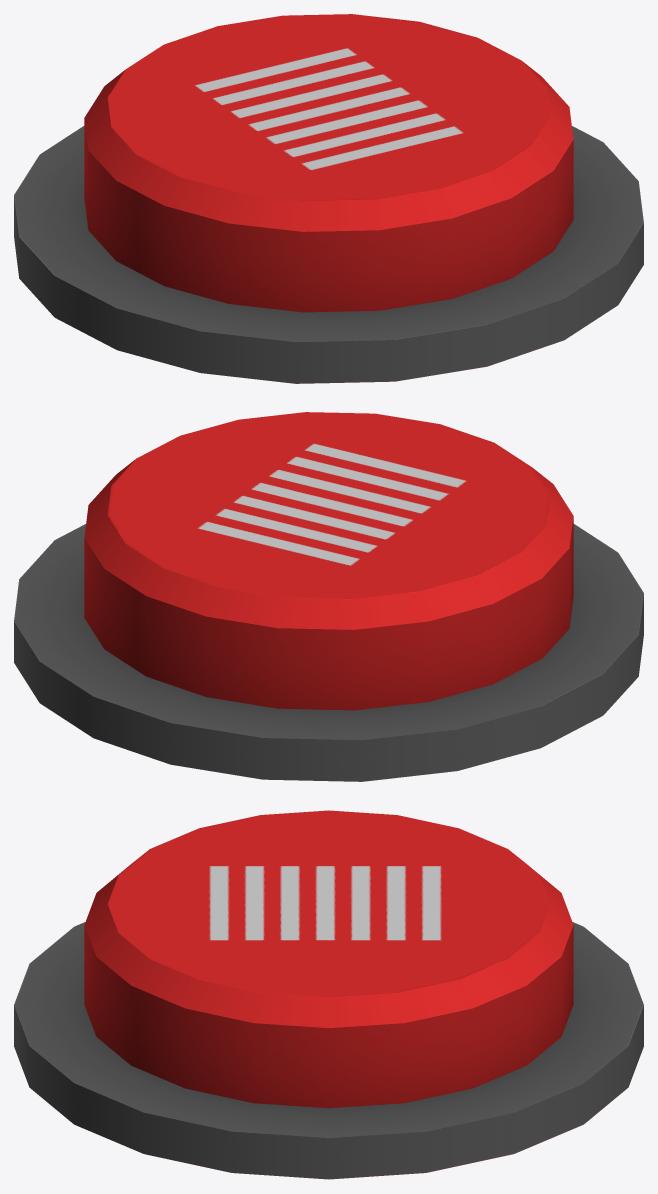
The model's file is button02.fbx.
3 views of the same model, one above another, from view 1: azimuth 30°, elevation 25°; view 2: azimuth 150°, elevation 25°; view 3: azimuth 270°, elevation 25° (orthographic).
Visible parts, largest first — view 1: pCylinder2, pCylinder1; view 2: pCylinder2, pCylinder1; view 3: pCylinder2, pCylinder1.
Part boxes in pixels (x1,y1,x2,y2): pCylinder2: [84, 14, 573, 312]; pCylinder1: [14, 126, 643, 383]; pCylinder2: [84, 412, 573, 710]; pCylinder1: [14, 524, 643, 781]; pCylinder2: [84, 810, 573, 1108]; pCylinder1: [14, 922, 643, 1179].
Size of the model in its own units: 1.03 by 0.2577 by 1.03.
1 material, 1 textured.
